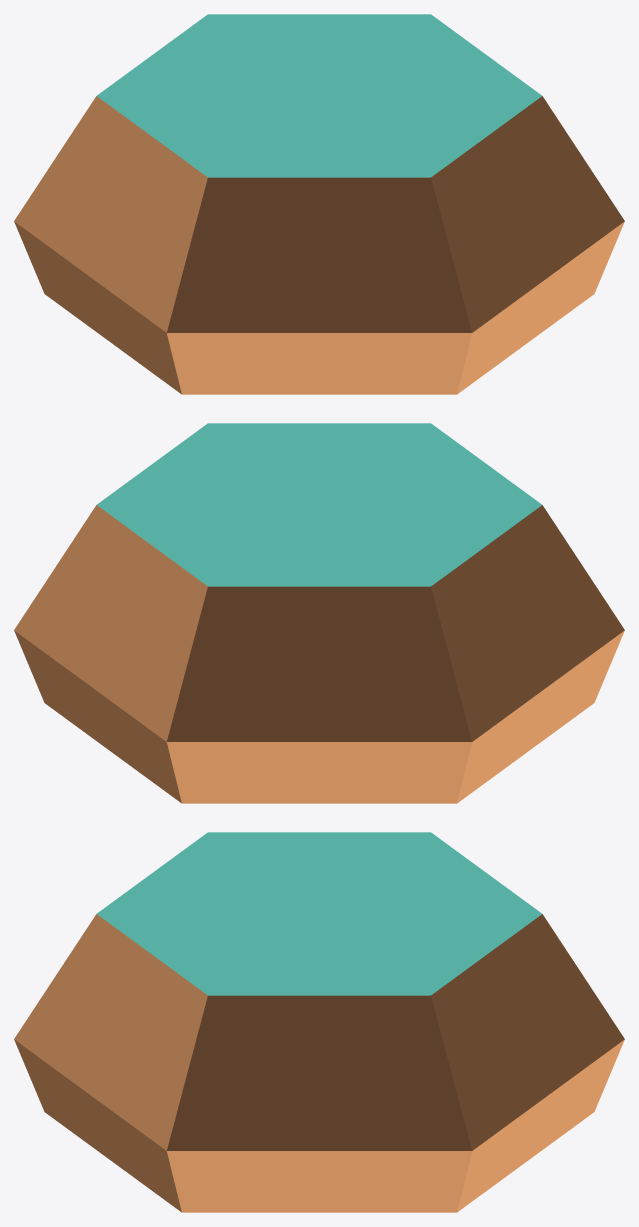
File: rock_small7.obj
3 renders of one model, top to bottom at view 1: azimuth 30°, elevation 25°; view 2: azimuth 150°, elevation 25°; view 3: azimuth 270°, elevation 25°, orthographic.
Visible parts, largest first — view 1: rock_small7; view 2: rock_small7; view 3: rock_small7.
Part boxes in pixels (left/top/right/bottom): rock_small7: left=14, top=14, right=624, bottom=394; rock_small7: left=14, top=423, right=624, bottom=803; rock_small7: left=14, top=832, right=624, bottom=1212.
Size of the model in its own units: 5.94 by 2.45 by 6.86.
